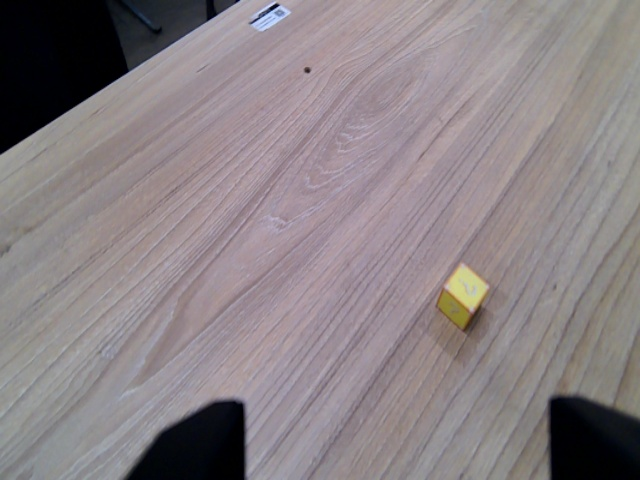lucky: (435, 262, 493, 332)
